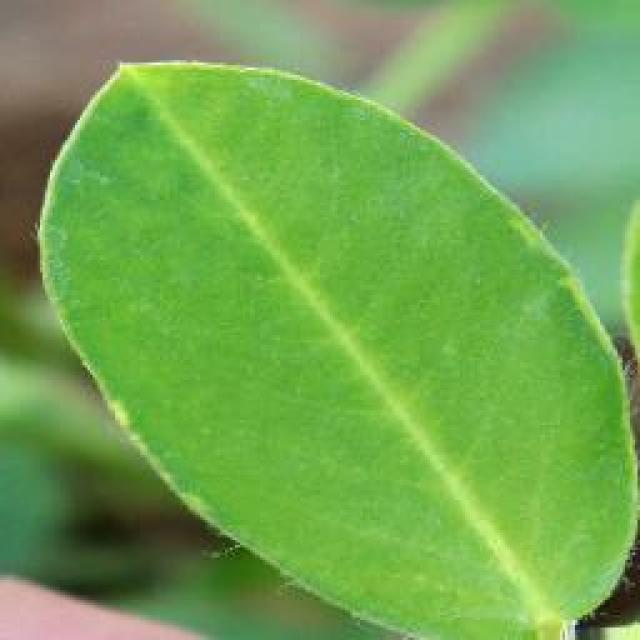Yellow_and_black_sigatoka: (37, 41, 640, 637)
